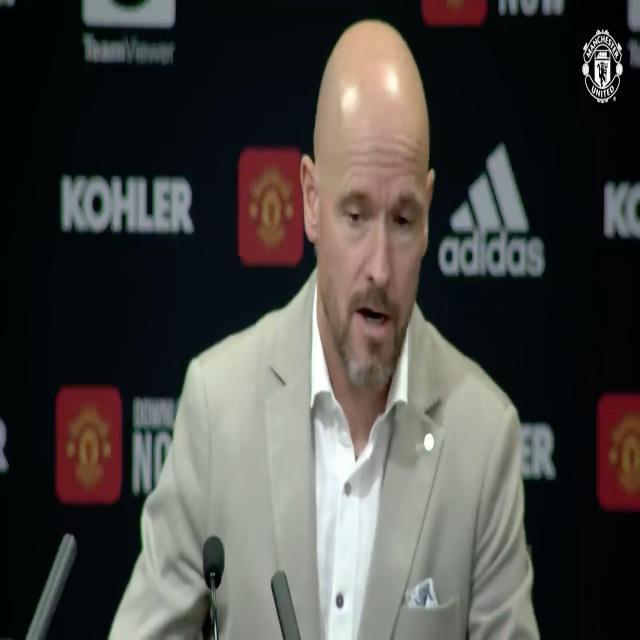Adidas: (438, 140, 545, 281)
Kohler: (62, 177, 192, 235)
TeamViewer: (83, 0, 174, 64)
